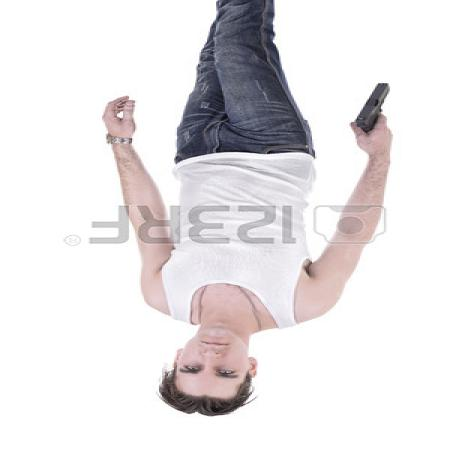Pistol: (355, 83, 400, 135)
